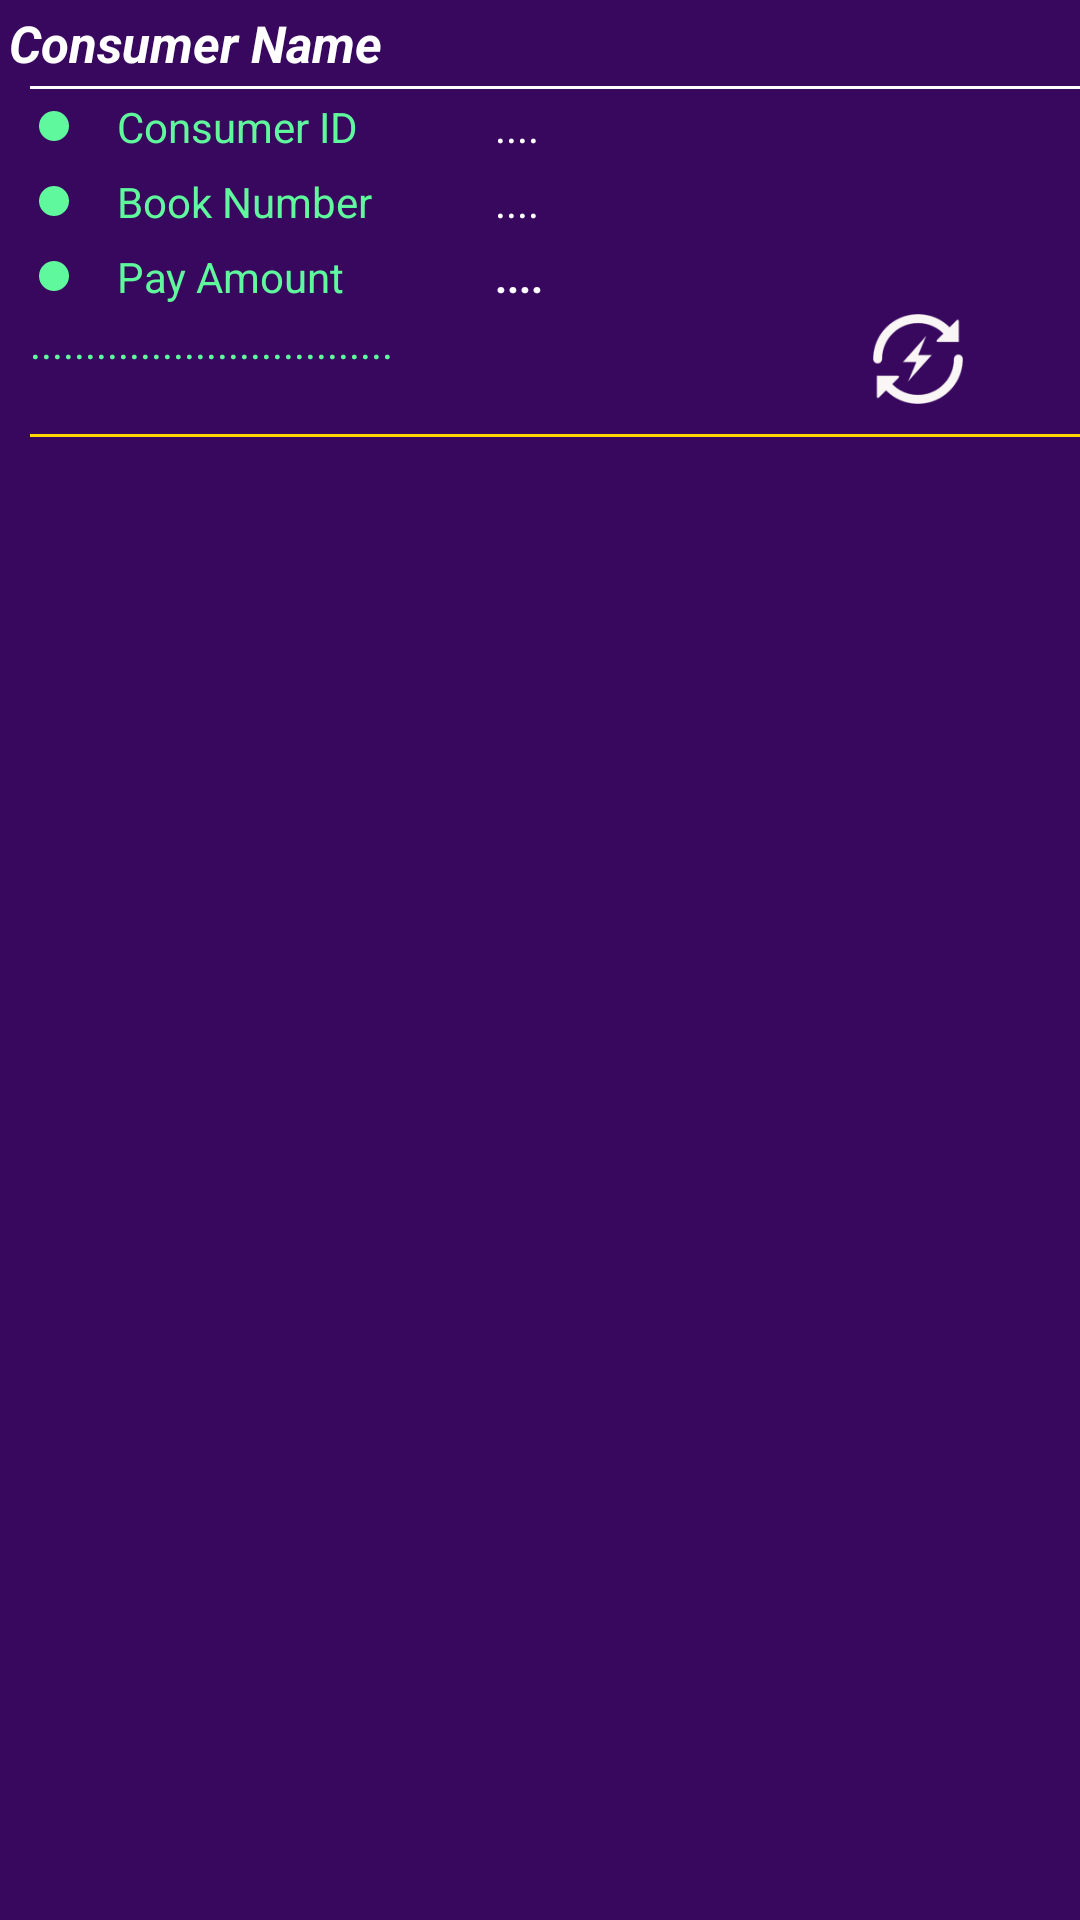

Point at icon controls on the screen. Image size 1080px x 1920px, points as point (x, y).
reconnect: point (918, 359)
